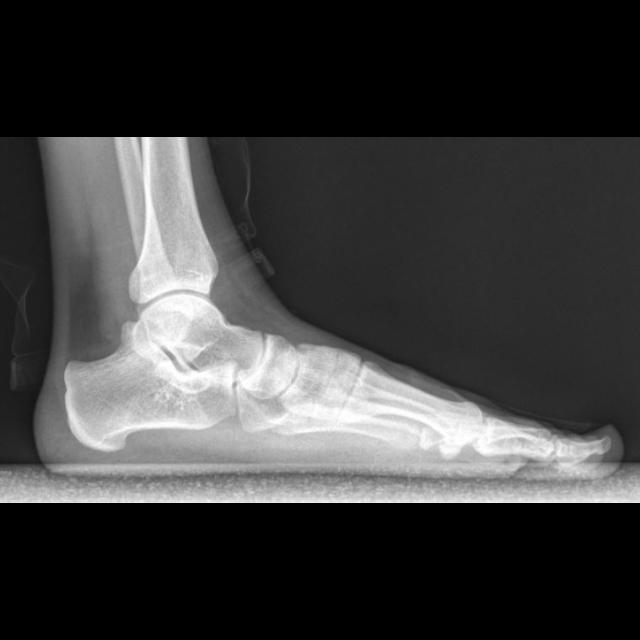a: (63, 344, 237, 454)
b: (245, 334, 297, 398)
c: (337, 360, 485, 445)
